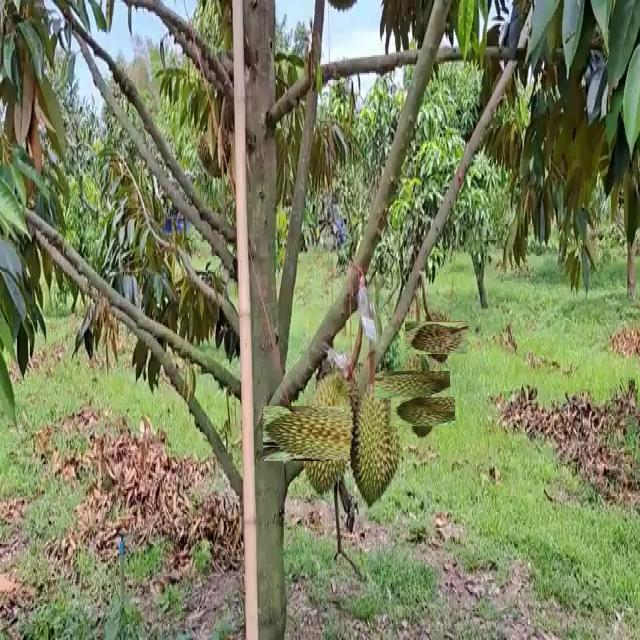durian: (281, 388, 372, 479), (350, 372, 403, 512), (387, 359, 438, 411), (412, 313, 460, 362), (399, 388, 447, 434)
